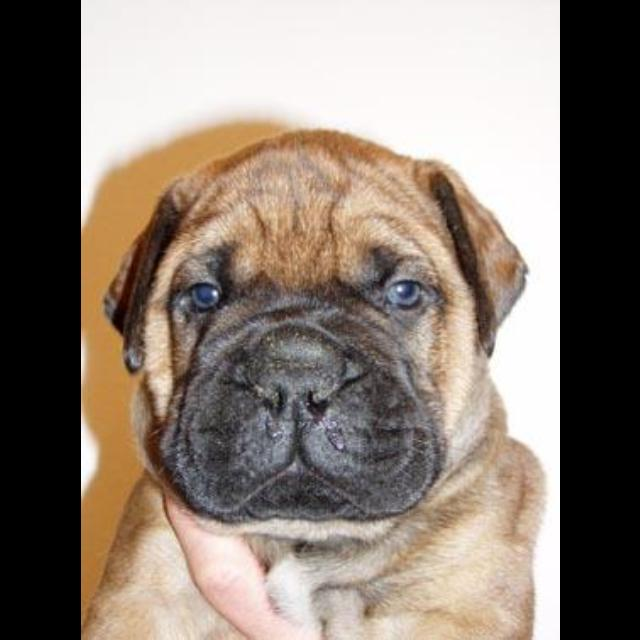bullmastiff: (82, 127, 549, 640)
